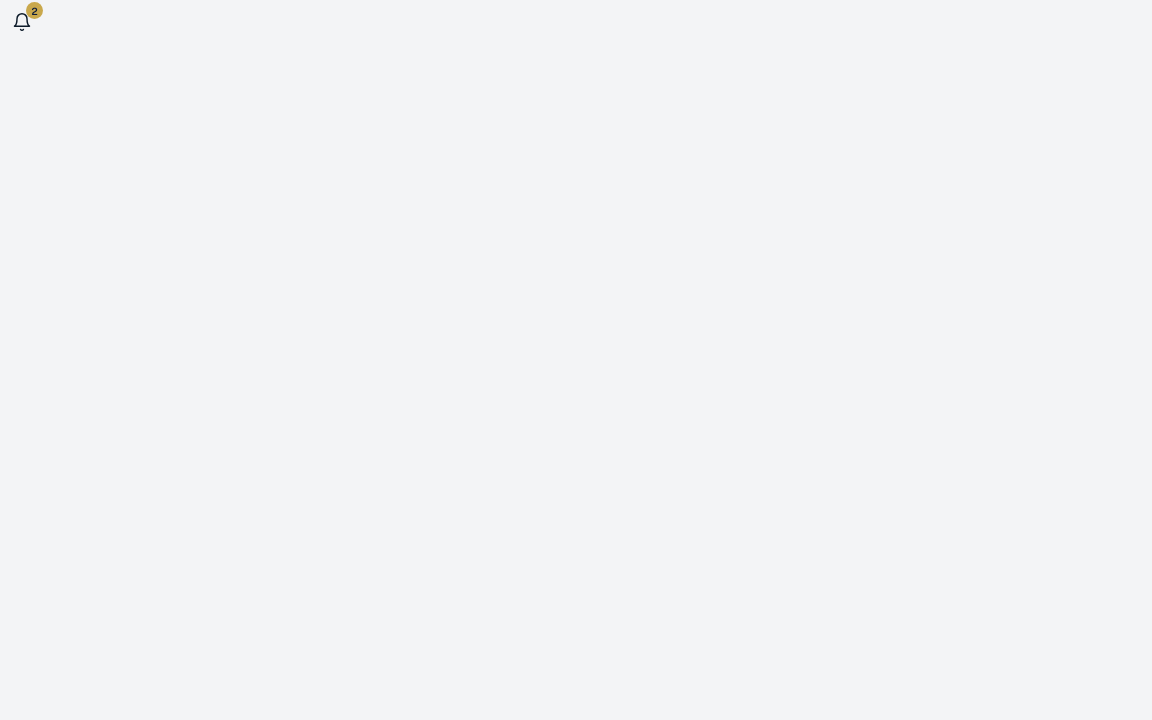
Scenario: preserves unread status when opening or expanding the bell and marks only a selected item
This screenshot has width=1152, height=720.
Click the button named "Notifications, 2 unread": [22, 22] box [0,0,44,44]
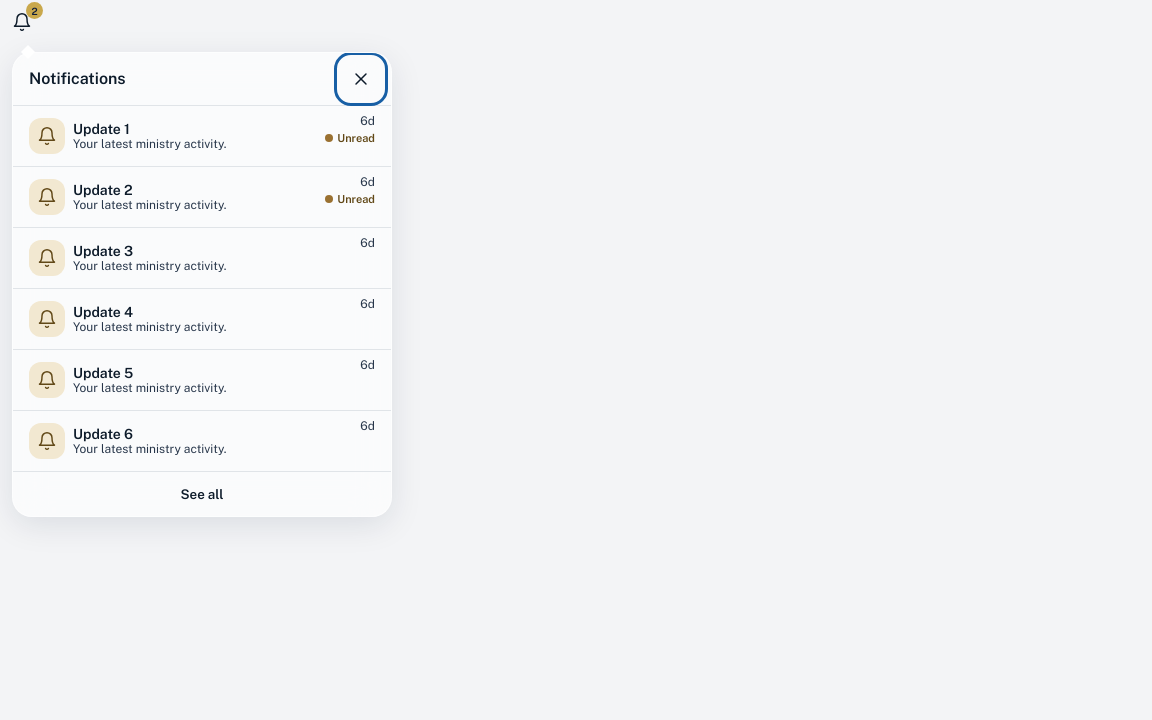
Expected: the button "update 7" is not shown
Click the button "See all": [202, 494] box [29,472,375,516]
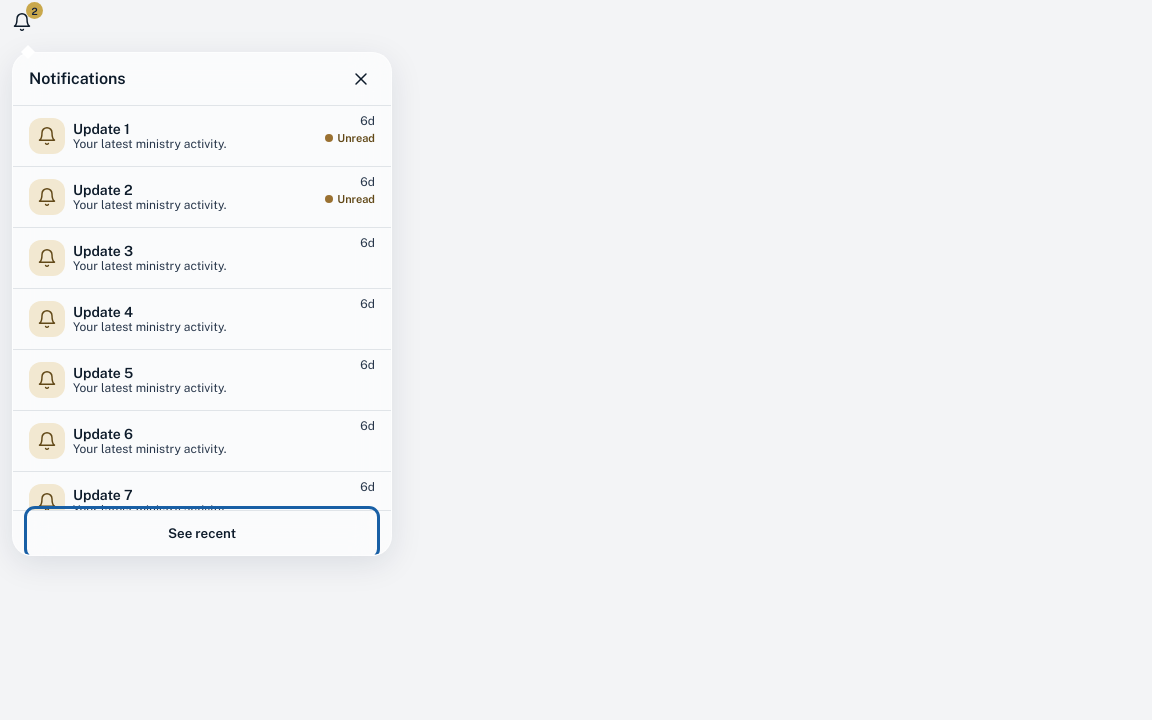
Expected: the button "Update 7 Your latest ministry activity. 6d" is shown, [13,472,391,510]
Click the button "Update 1 Your latest ministry activity. 6d Unread": [202, 136] box [13,106,391,166]
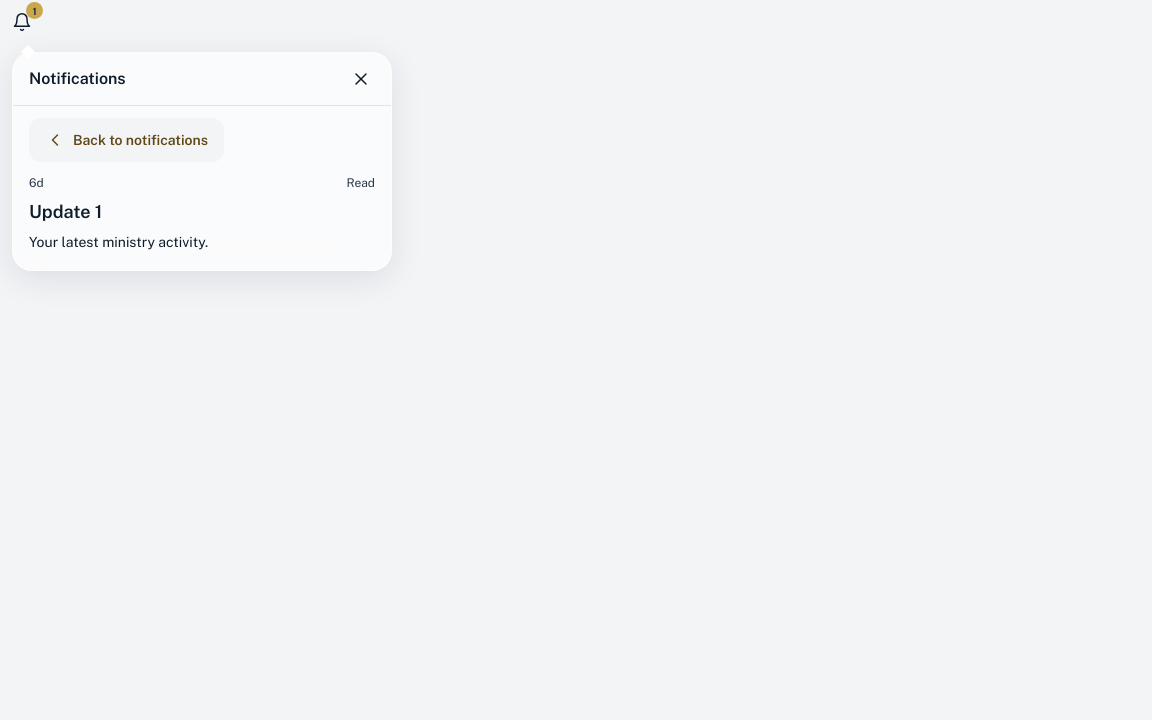
Expected: the text "Read" is shown, [347,174,375,192]
Expected: the button named "Notifications, 1 unread" is shown, [0,0,44,44]
Click the button "Back to notifications": [126, 140] box [29,118,224,162]
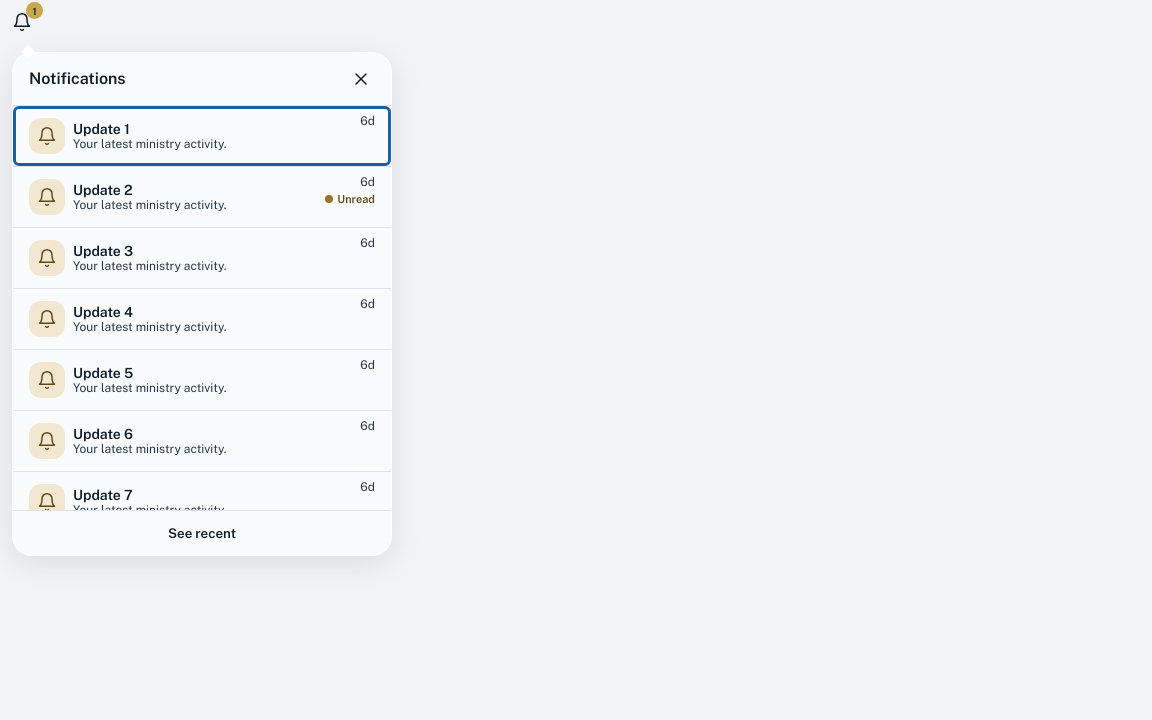
Expected: the button "Update 2 Your latest ministry activity. 6d Unread" is shown, [13,167,391,227]
Expected: the button "Update 7" is shown, [13,472,391,510]
Press Escape
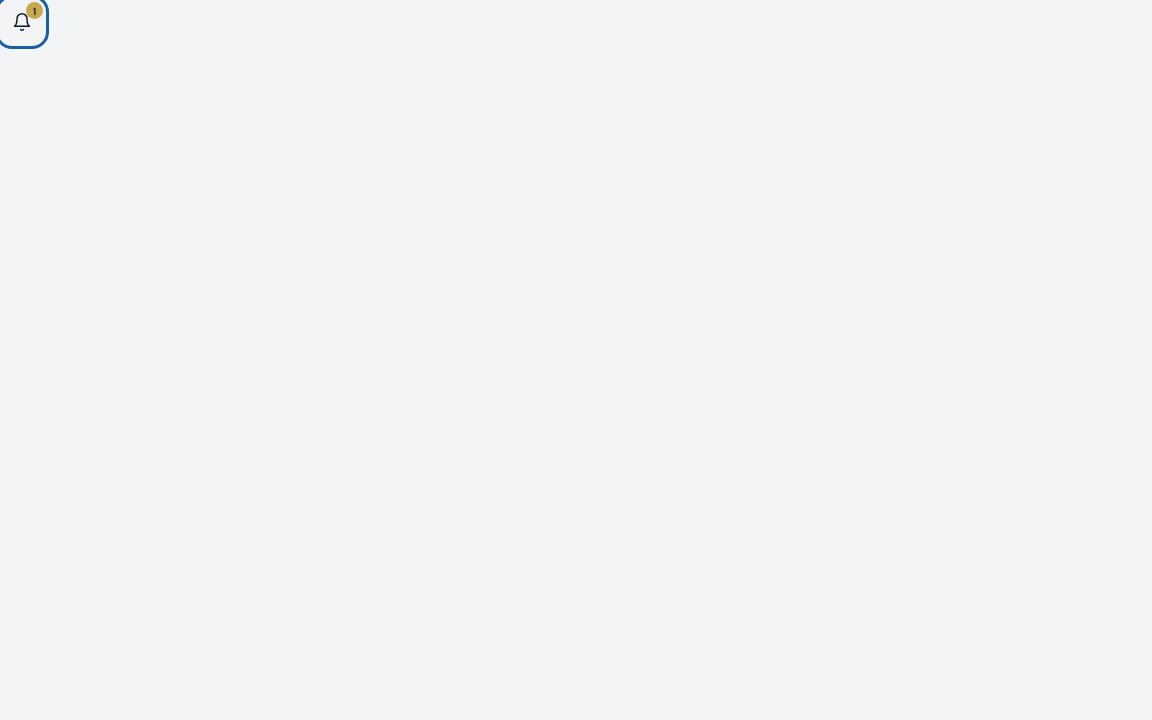
Expected: the dialog is gone
